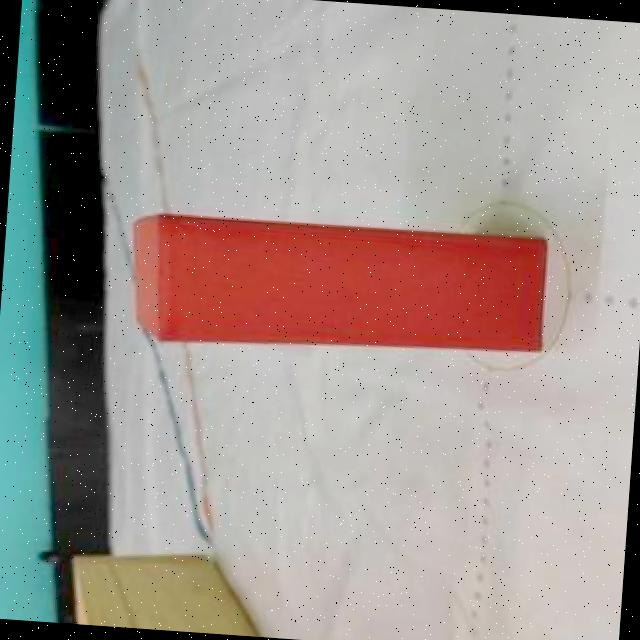redbox: (120, 211, 554, 366)
